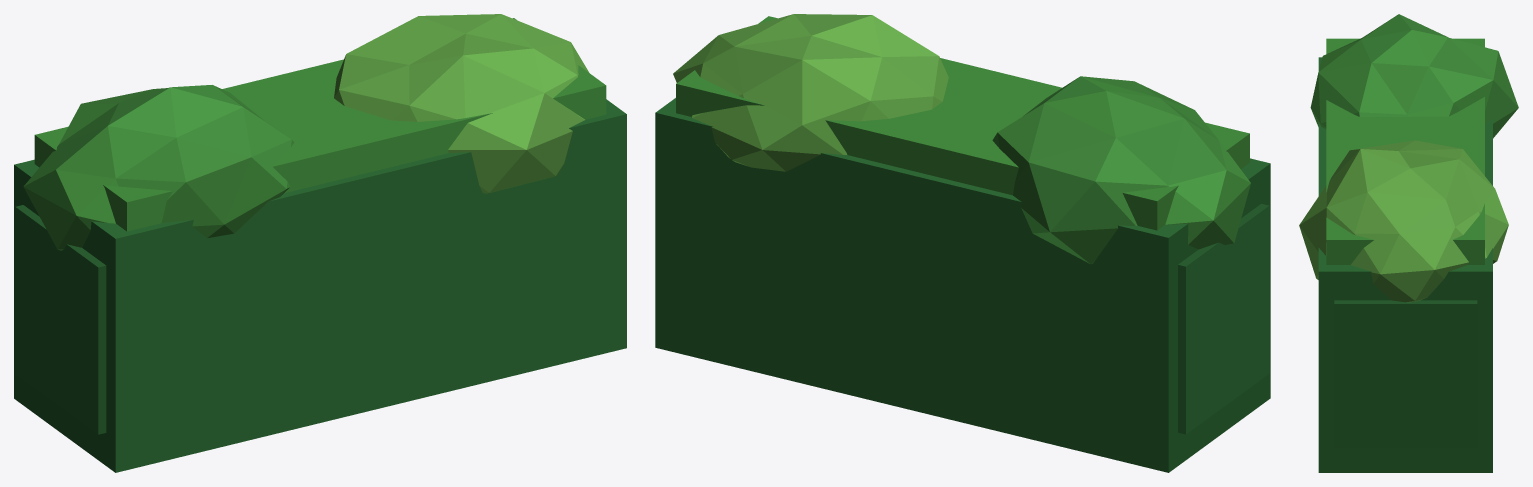
The model's file is Scatter_Hedge.fbx.
3 renders of one model, left to right at view 1: azimuth 30°, elevation 25°; view 2: azimuth 150°, elevation 25°; view 3: azimuth 270°, elevation 25°, orthographic. The views are drawn at different scales.
Visible parts, largest first — view 1: Hedge; view 2: Hedge; view 3: Hedge.
Part boxes in pixels (bbox=[...]): Hedge: bbox=[14, 14, 626, 472]; Hedge: bbox=[655, 14, 1270, 472]; Hedge: bbox=[1299, 14, 1518, 472].
Size of the model in its own units: 6.83 by 3.82 by 2.77.
